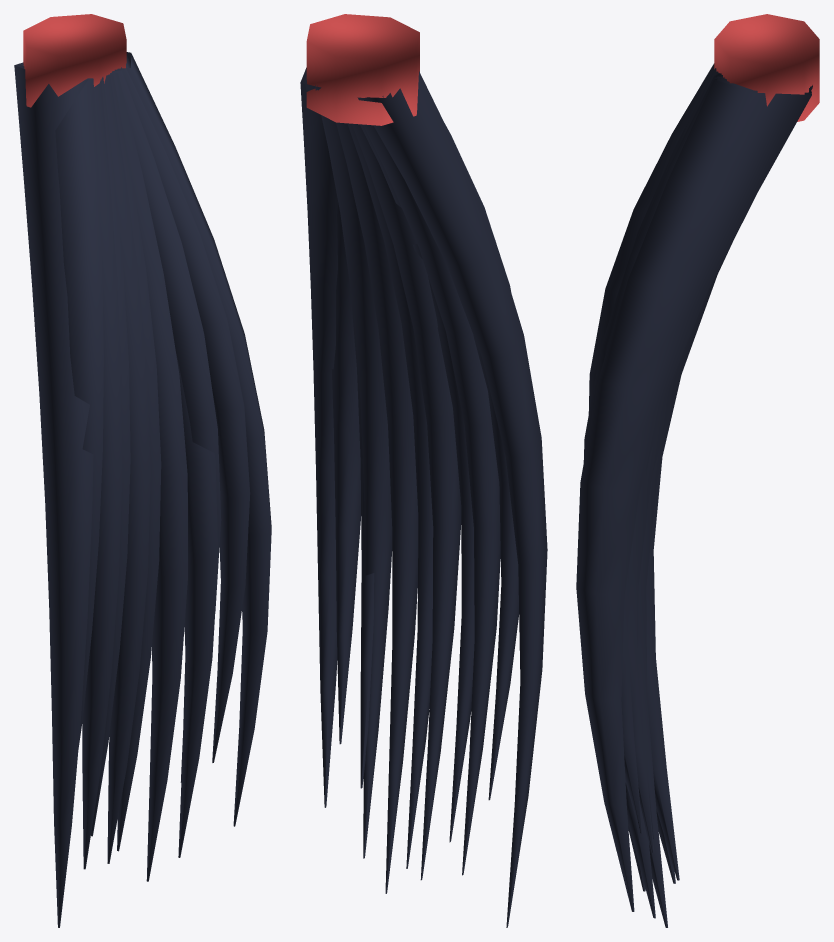
The model's file is anime_ponytail.glb.
The picture shows the model from 3 angles, left to right: view 1: azimuth 30°, elevation 25°; view 2: azimuth 150°, elevation 25°; view 3: azimuth 270°, elevation 25°; orthographic projection. The views are drawn at different scales.
Visible parts, largest first — view 1: tail, band; view 2: tail, band; view 3: tail, band.
Part boxes in pixels (bbox=[...]): tail: bbox=[14, 52, 271, 927]; band: bbox=[23, 14, 126, 107]; tail: bbox=[300, 67, 547, 927]; band: bbox=[306, 14, 419, 125]; tail: bbox=[576, 63, 812, 927]; band: bbox=[714, 14, 819, 121].
Bounding box in the file's own units: 0.1461 × 0.5598 × 0.1387.
